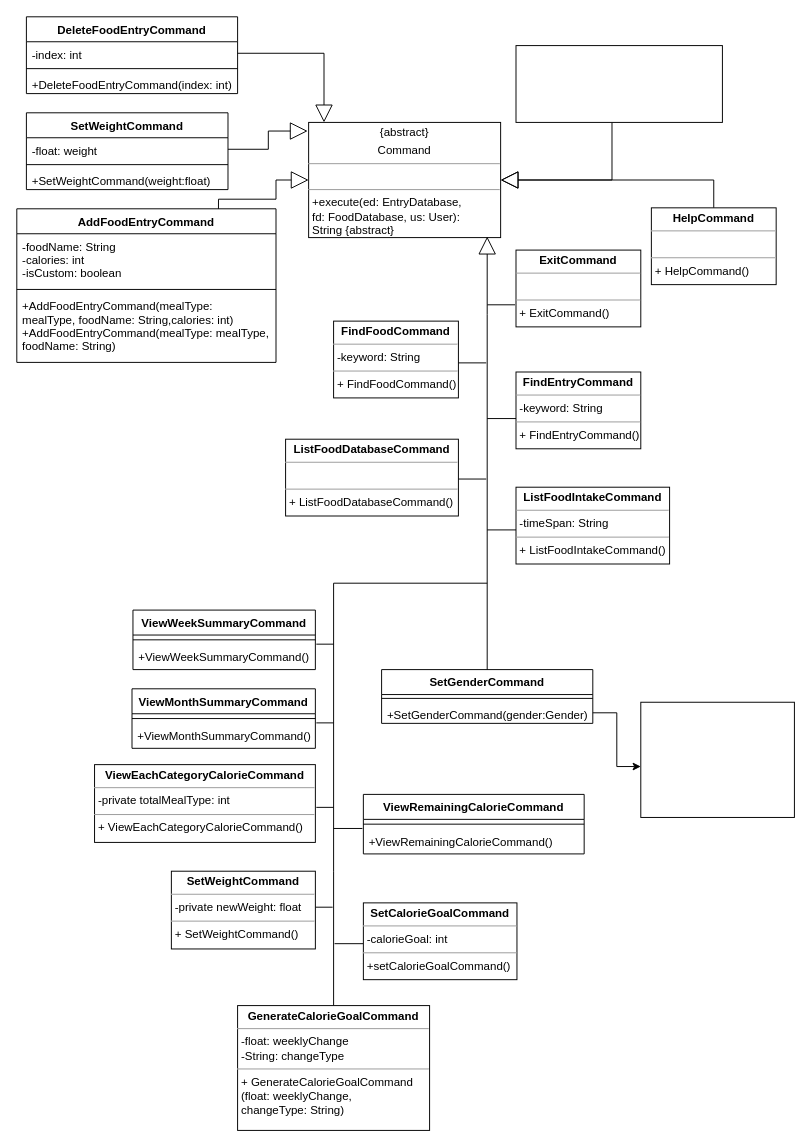
The diagram is 811 pixels wide and 1147 high, and some of its shapes have lost their labels. Each missing label, with the centre of its shape:
<<enumeration>> Gender MALE FEMALE + findGender(gender: String) : Gende r: pixel 717 759
ViewRemainingCalorieCommand + ViewRemainingCalorieCommand(): pixel 618 83
